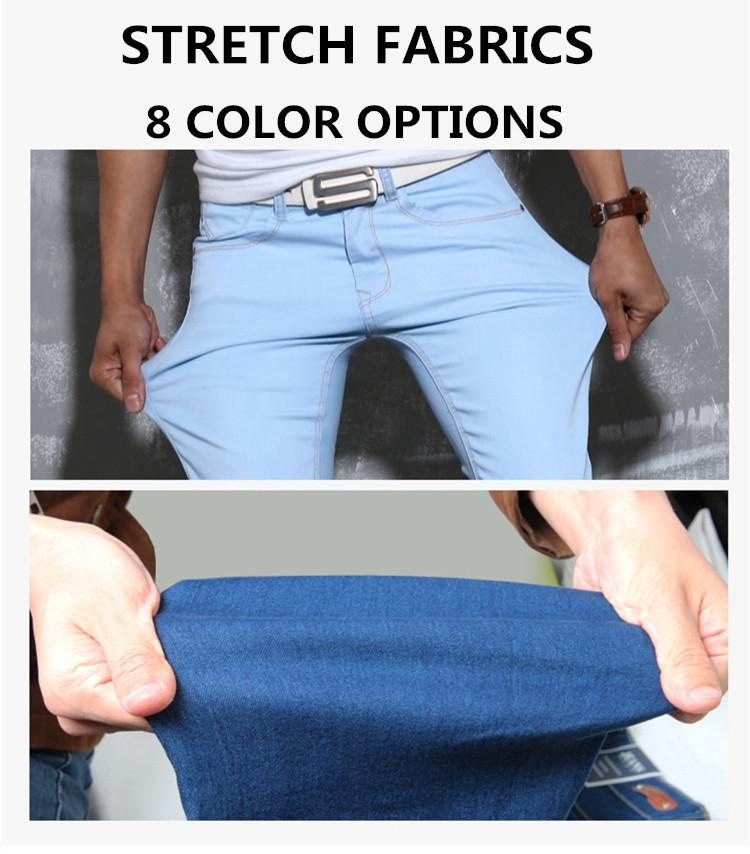jeans: (147, 180, 599, 504)
